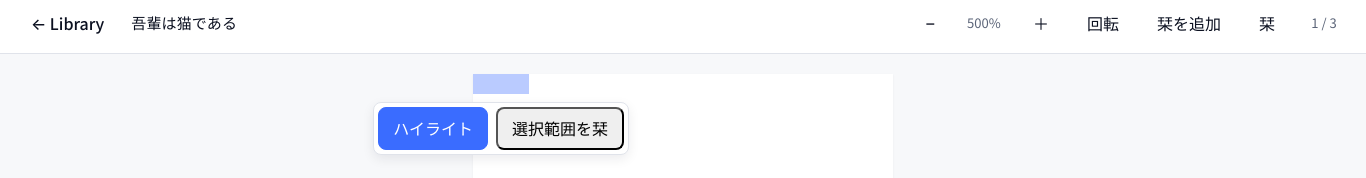
Test: the highlight action › offers to remove when the same text is re-selected, and deletes the row
The width and height of the screenshot is (1366, 178).
expect the element with test id "rm-selection-toolbar" is shown: met, box [373, 102, 629, 155]
Click the button with test id "rm-selection-highlight". click: click(433, 129)
box: [378, 107, 488, 150]
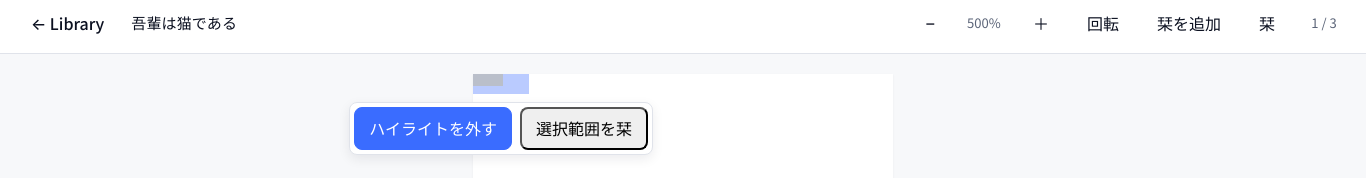
expect the element with test id "rm-selection-toolbar" is shown: met, box [349, 102, 653, 155]
expect the button with test id "rm-selection-highlight" shows "外す": met
Click the button with test id "rm-selection-highlight". click: click(433, 129)
box: [354, 107, 512, 150]
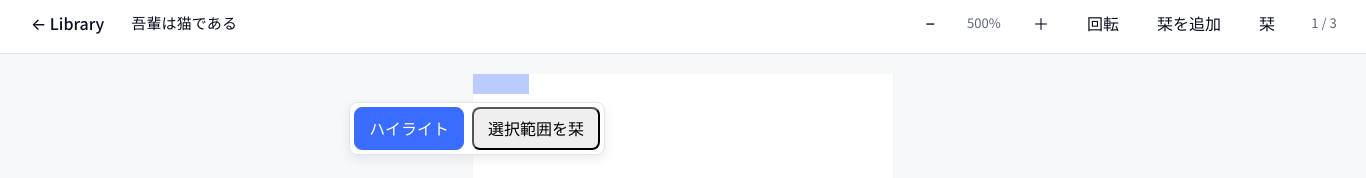
expect the element with test id "rm-selection-toolbar" is shown: met, box [349, 102, 605, 155]
expect the button with test id "rm-selection-highlight" no longer shows "外す": met
